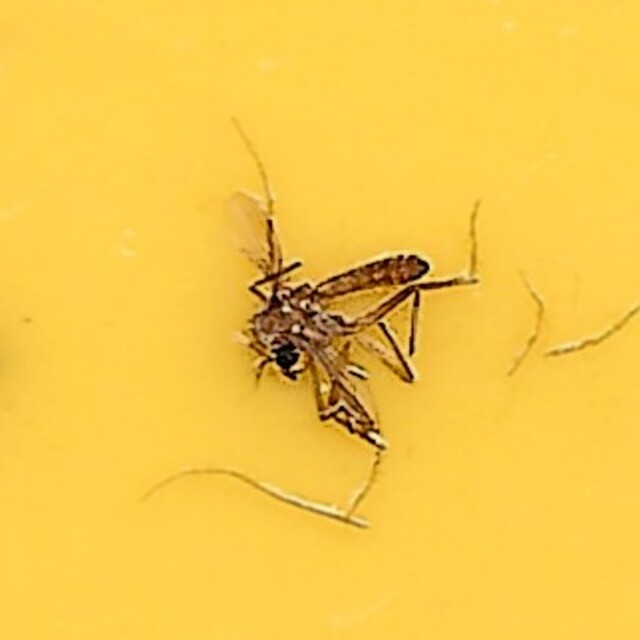Nematocera: (199, 177, 441, 463)
